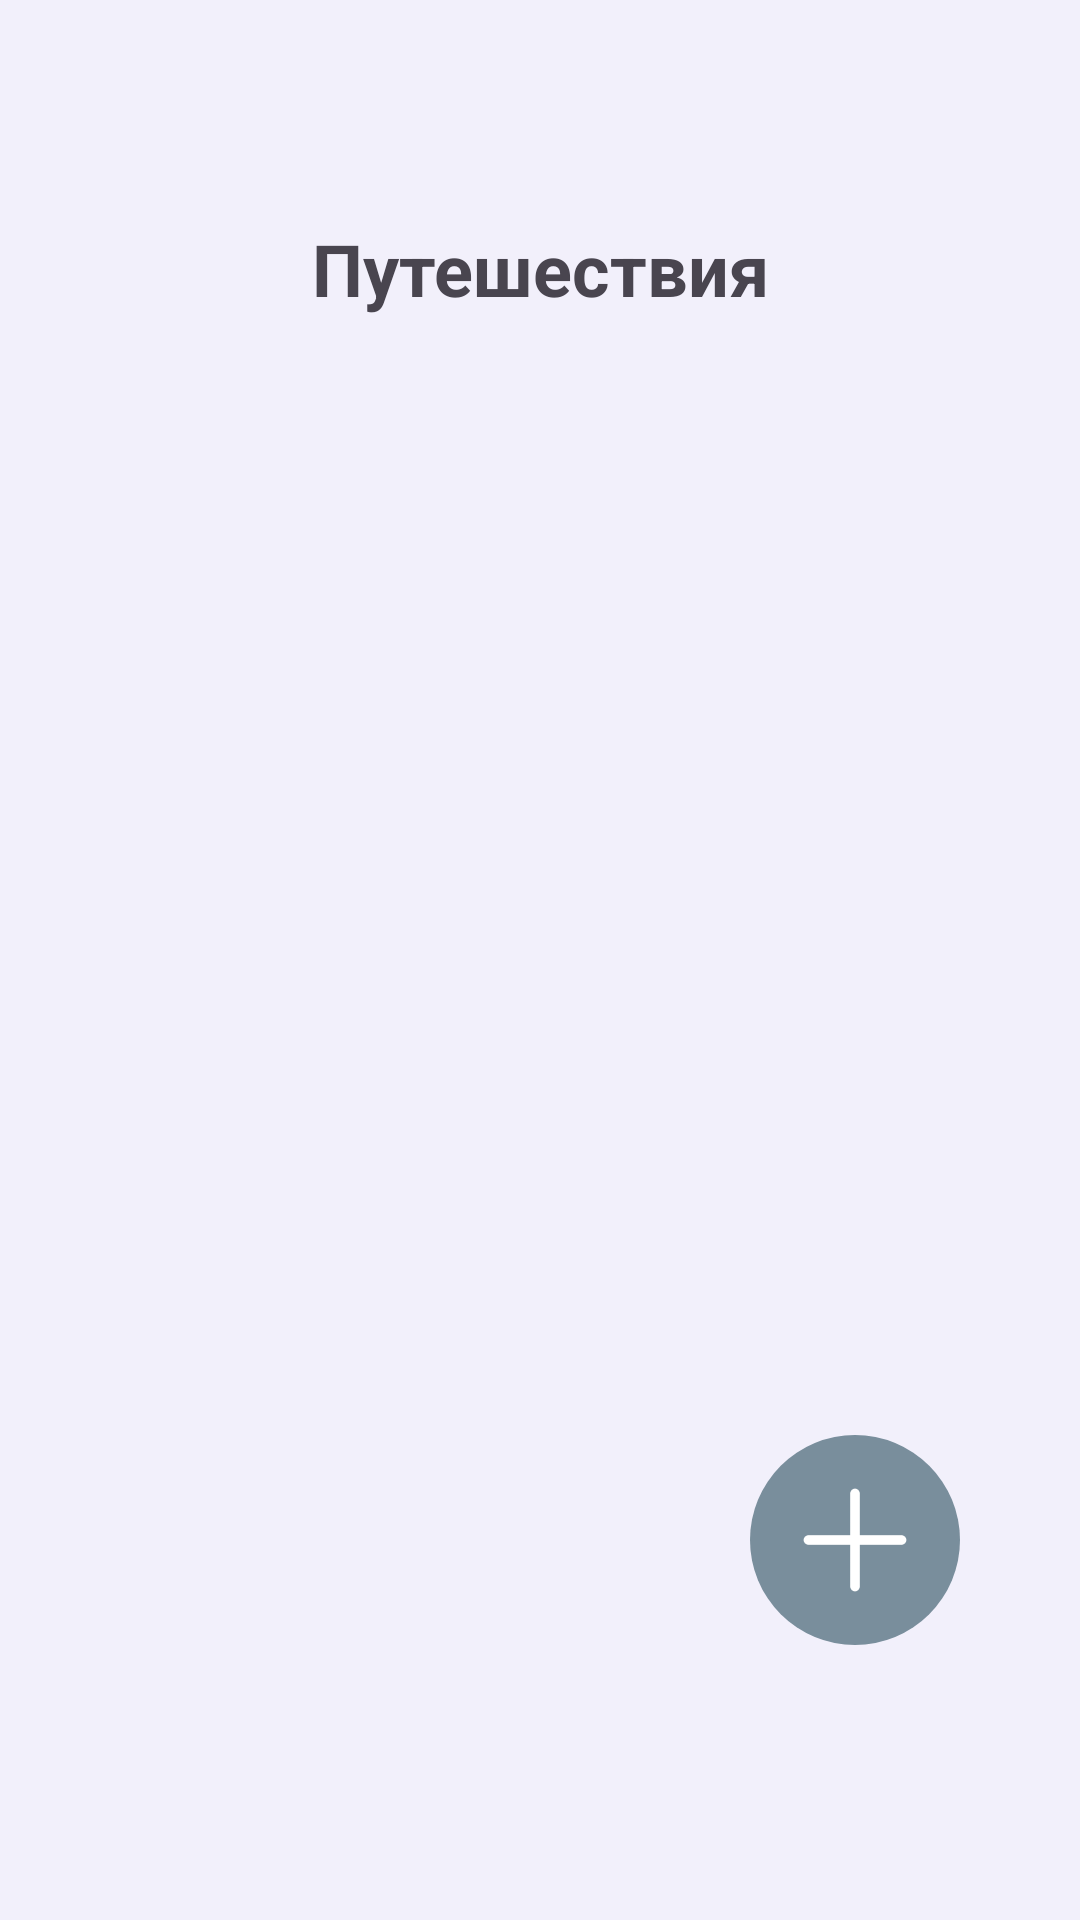

Where icons sit on this 1080×1920 app screen, as (x1, y1, x2, y2):
plus: (803, 1488, 907, 1592)
